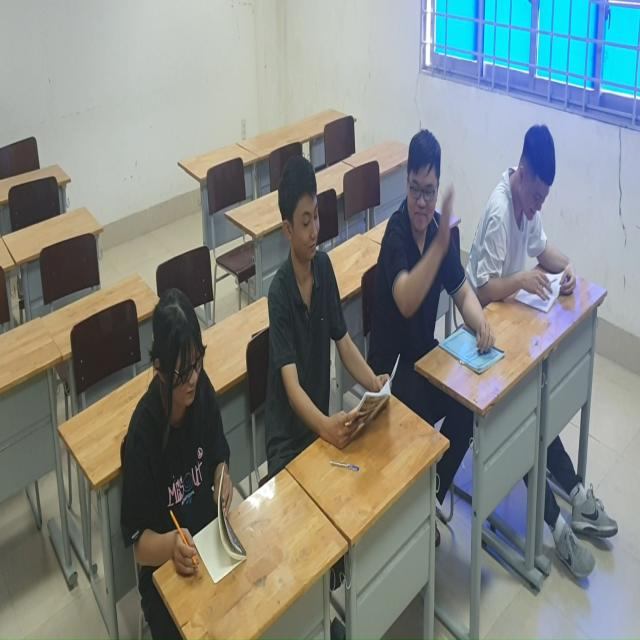raise_hand: (380, 127, 507, 372)
read: (252, 162, 397, 483), (121, 272, 250, 617), (479, 119, 581, 319)
